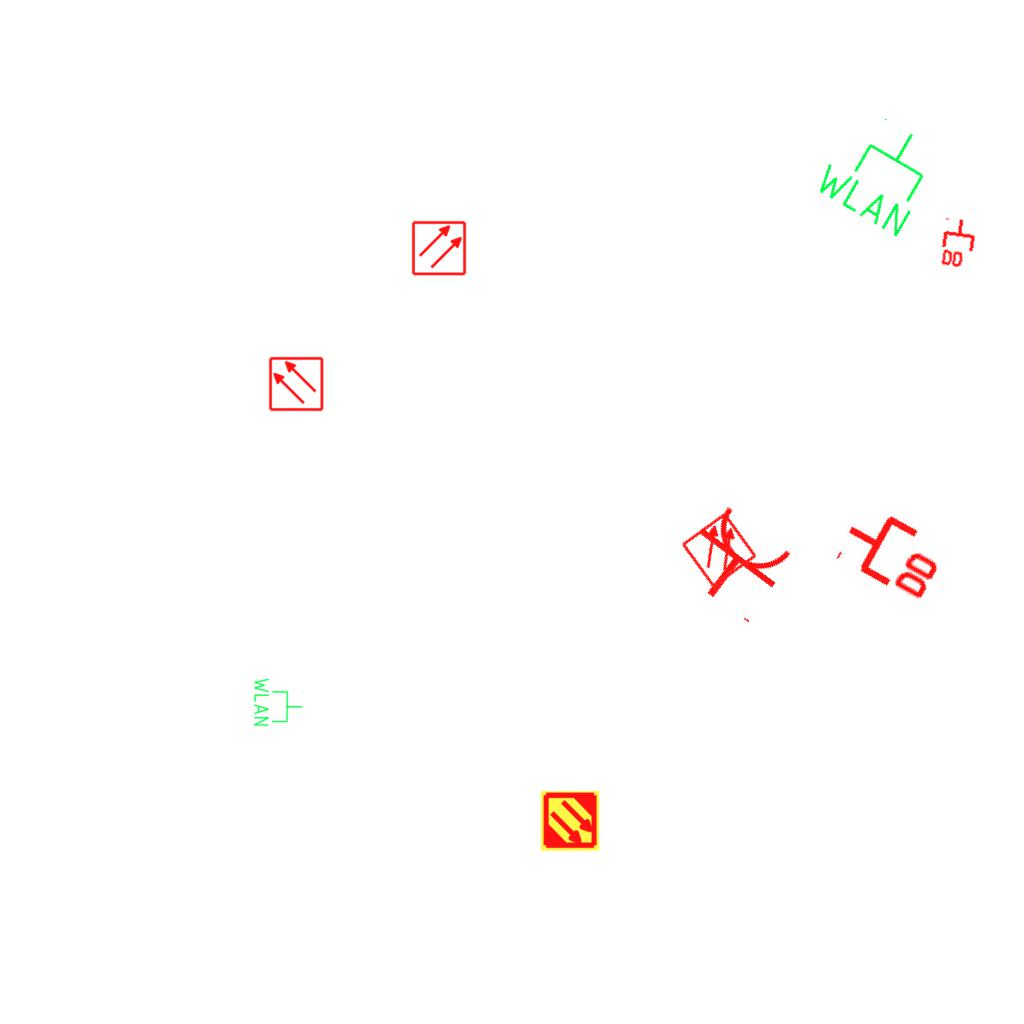ASR_Ansaugrauchmelder: (539, 790, 601, 852)
Datenanschluss_zweifach: (831, 496, 956, 607), (938, 215, 980, 272)
RMO_Rauchmelder_optischer: (679, 510, 759, 590), (268, 356, 324, 412), (411, 220, 467, 276)
Schukosteckdose_einfach: (670, 498, 803, 628)
WLAN: (807, 100, 951, 243), (252, 676, 304, 728)
